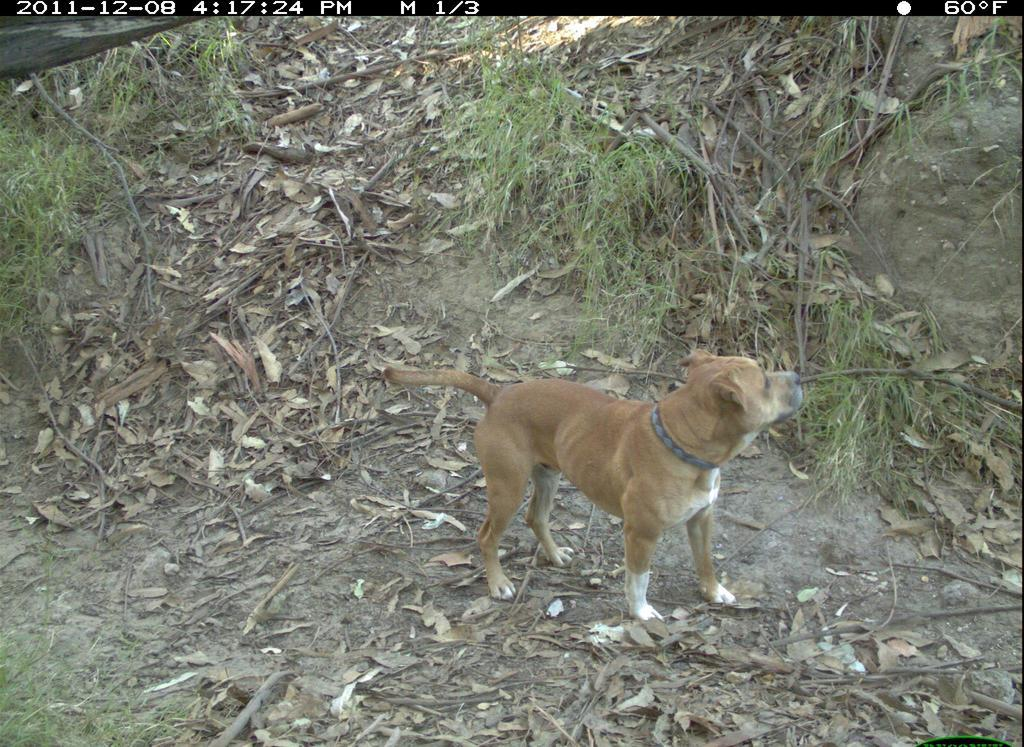dog: (377, 345, 809, 625)
